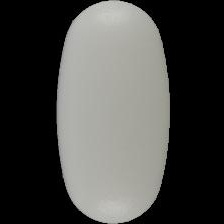58468-0021: (0, 0, 224, 224)
